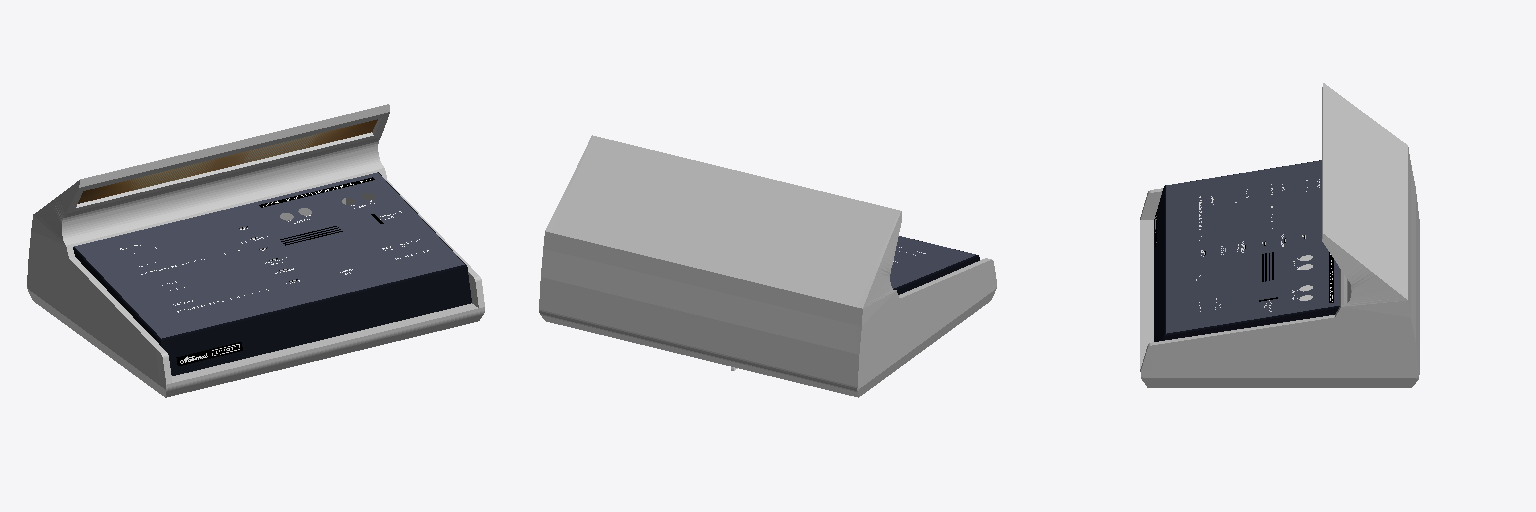
The picture shows the model from 3 angles: view 1: azimuth 30°, elevation 25°; view 2: azimuth 150°, elevation 25°; view 3: azimuth 270°, elevation 25°; orthographic projection.
Parts seen in each view (by area): view 1: Plane_Plane_Material.002, ConsoleTop2, ConsoleFront, WGLampOn, LogoPlate; view 2: Plane_Plane_Material.002, ConsoleTop2, ConsoleFront; view 3: Plane_Plane_Material.002, ConsoleTop2, ConsoleFront.
Part boxes in pixels (left/top/right/bottom): Plane_Plane_Material.002: left=27, top=104, right=484, bottom=397; ConsoleTop2: left=74, top=172, right=464, bottom=338; ConsoleFront: left=73, top=172, right=471, bottom=375; WGLampOn: left=78, top=119, right=377, bottom=203; LogoPlate: left=176, top=342, right=242, bottom=365; Plane_Plane_Material.002: left=539, top=135, right=996, bottom=397; ConsoleTop2: left=890, top=236, right=975, bottom=288; ConsoleFront: left=893, top=239, right=979, bottom=294; Plane_Plane_Material.002: left=1140, top=83, right=1419, bottom=387; ConsoleTop2: left=1166, top=160, right=1339, bottom=333; ConsoleFront: left=1154, top=160, right=1339, bottom=341.
Bounding box in the file's own units: 8.04 × 4.75 × 6.09.
14 materials, 4 textured.